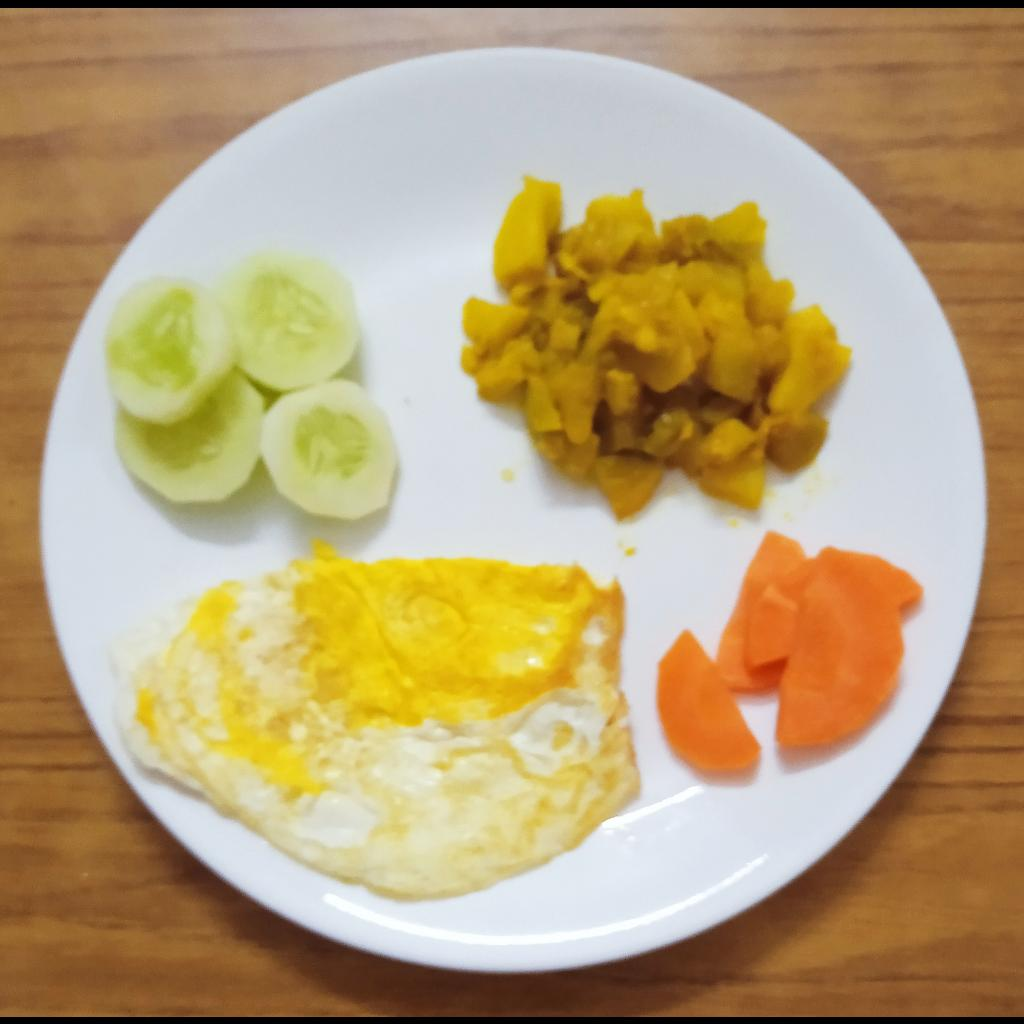carrot: (657, 534, 930, 776)
cucumber: (104, 255, 399, 526)
egg-poached: (114, 533, 641, 901)
potol: (458, 173, 853, 526)
